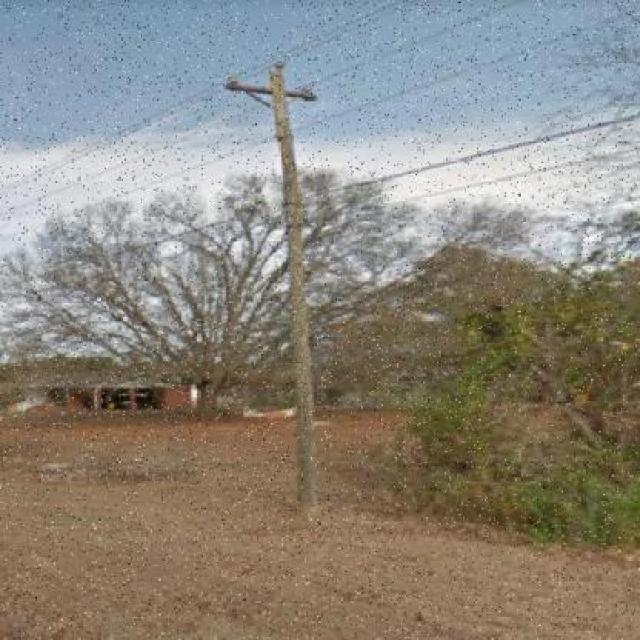pole: (219, 49, 367, 516)
